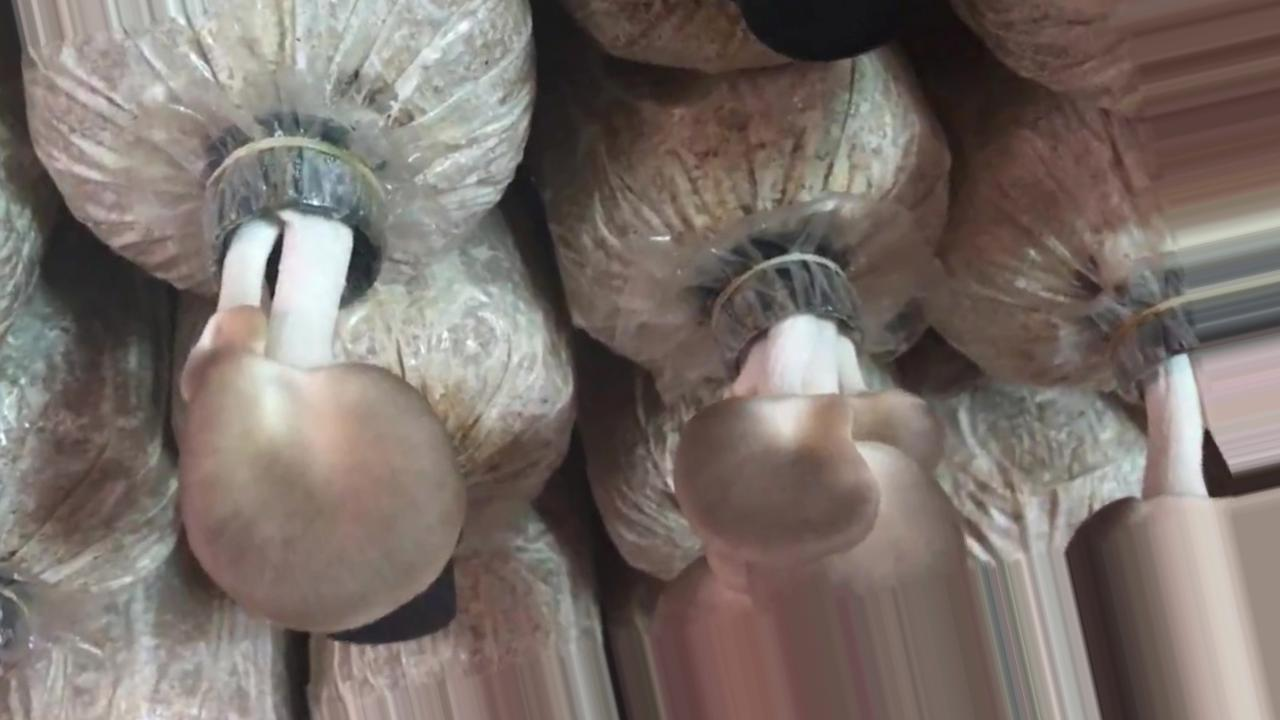nam: (653, 256, 1007, 720), (178, 141, 463, 632), (1066, 270, 1278, 720)
